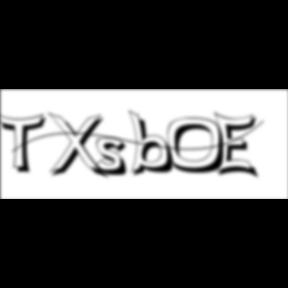E: (215, 110, 264, 182)
O: (168, 117, 232, 176)
T: (0, 112, 52, 176)
X: (47, 112, 111, 182)
b: (128, 109, 181, 179)
s: (96, 137, 134, 179)
